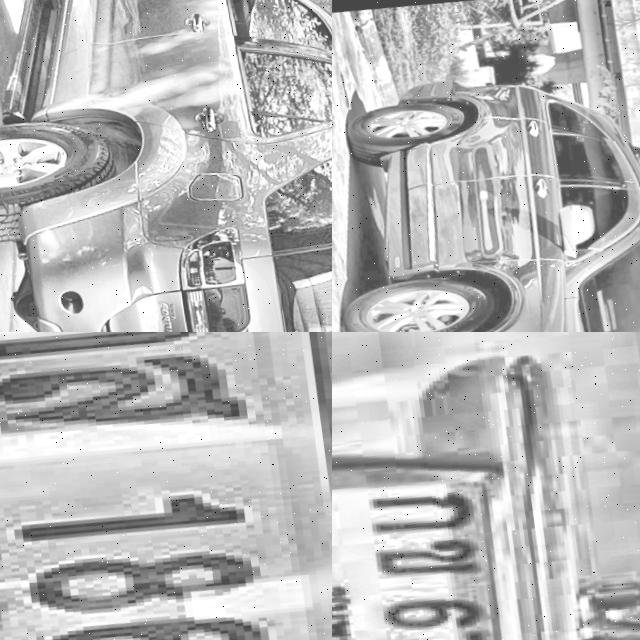license-plate: (0, 332, 332, 640), (332, 410, 577, 640)
